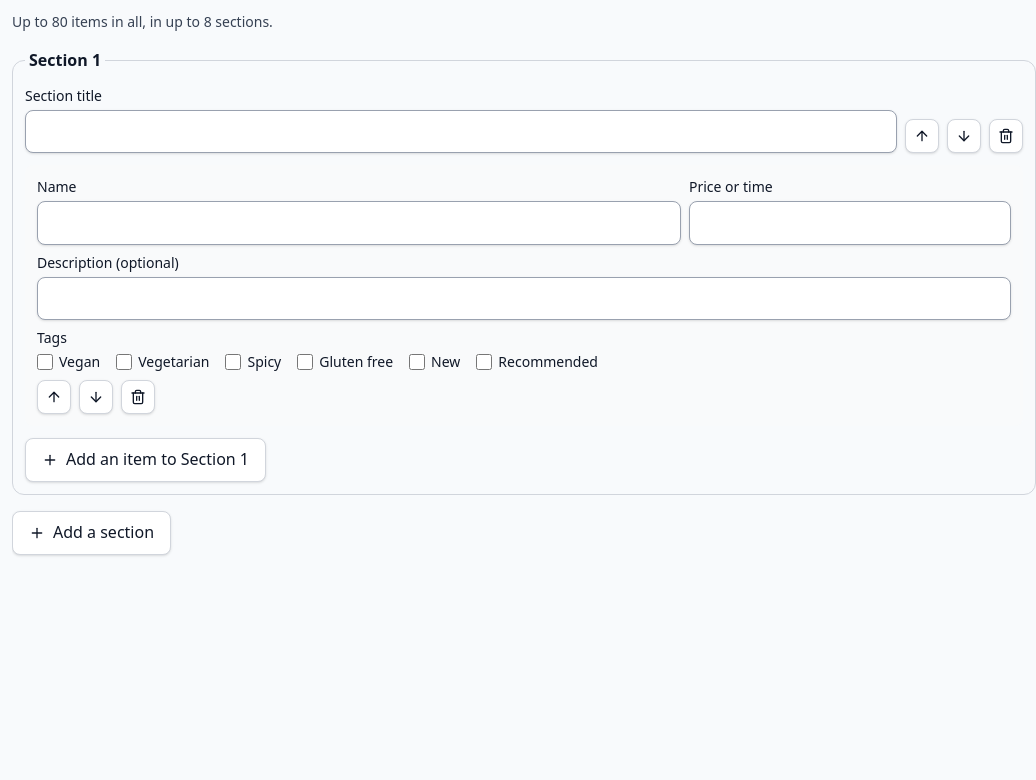
Test: menu editor › allows at most four tags per item
Click the checkbox labelled "Vegan" at (45, 362), box x1=37 y1=354 x2=53 y2=370
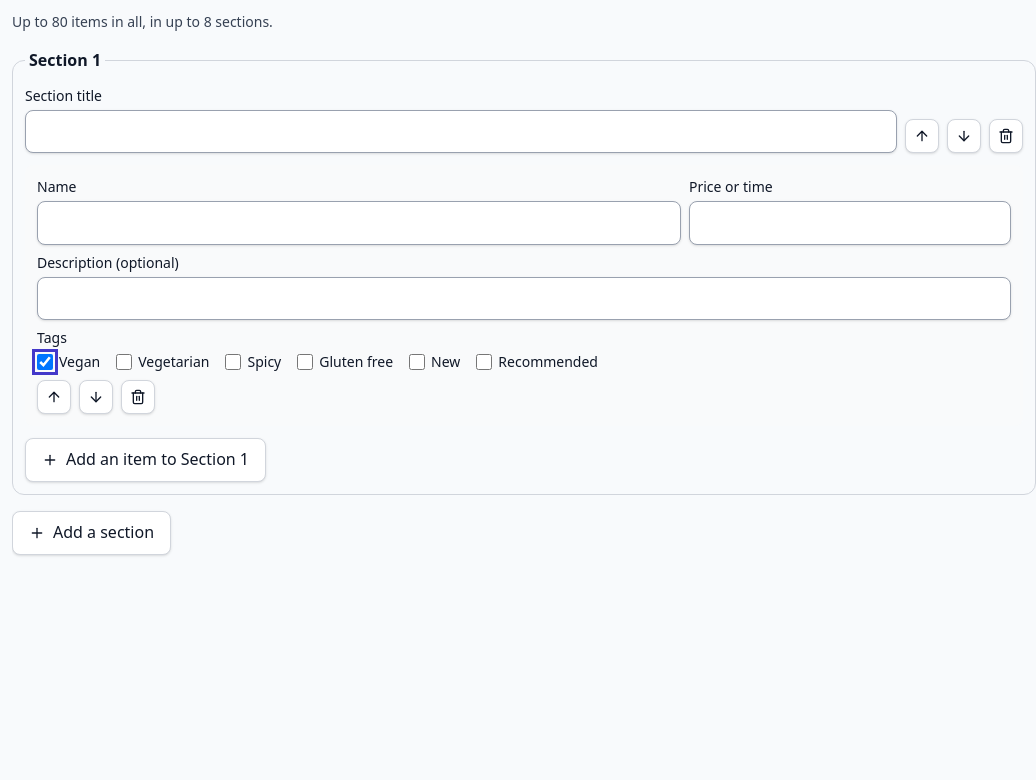
Click the checkbox labelled "Spicy" at (234, 362), box x1=226 y1=354 x2=242 y2=370
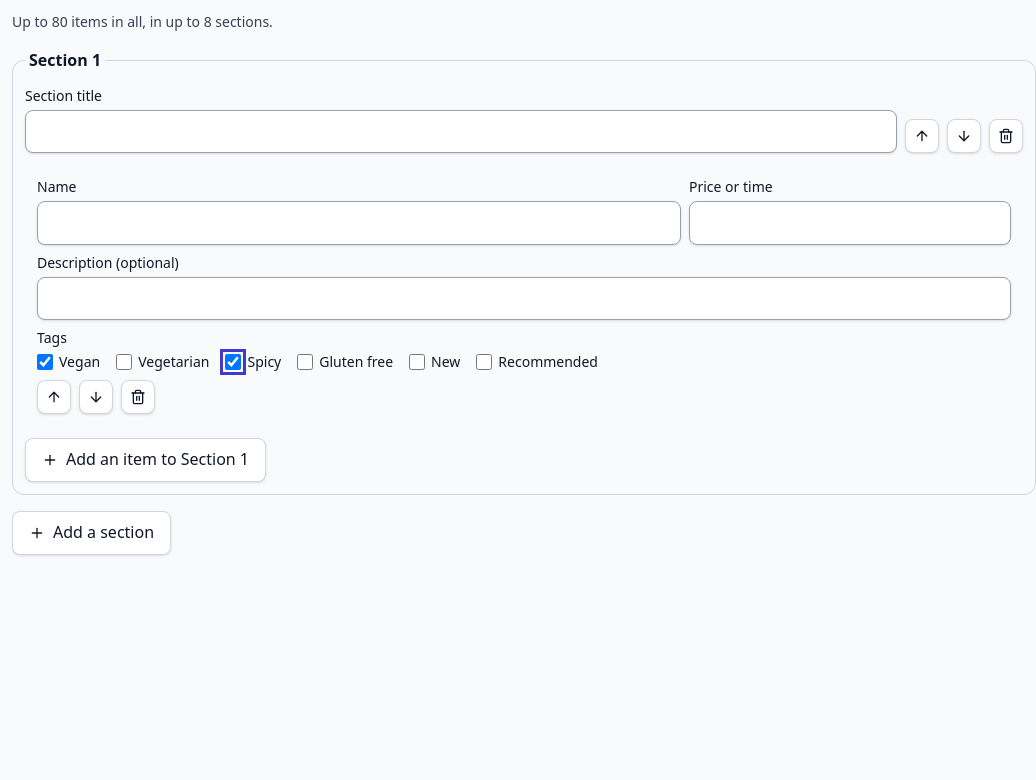
Click the checkbox labelled "New" at (417, 362), box x1=409 y1=354 x2=425 y2=370
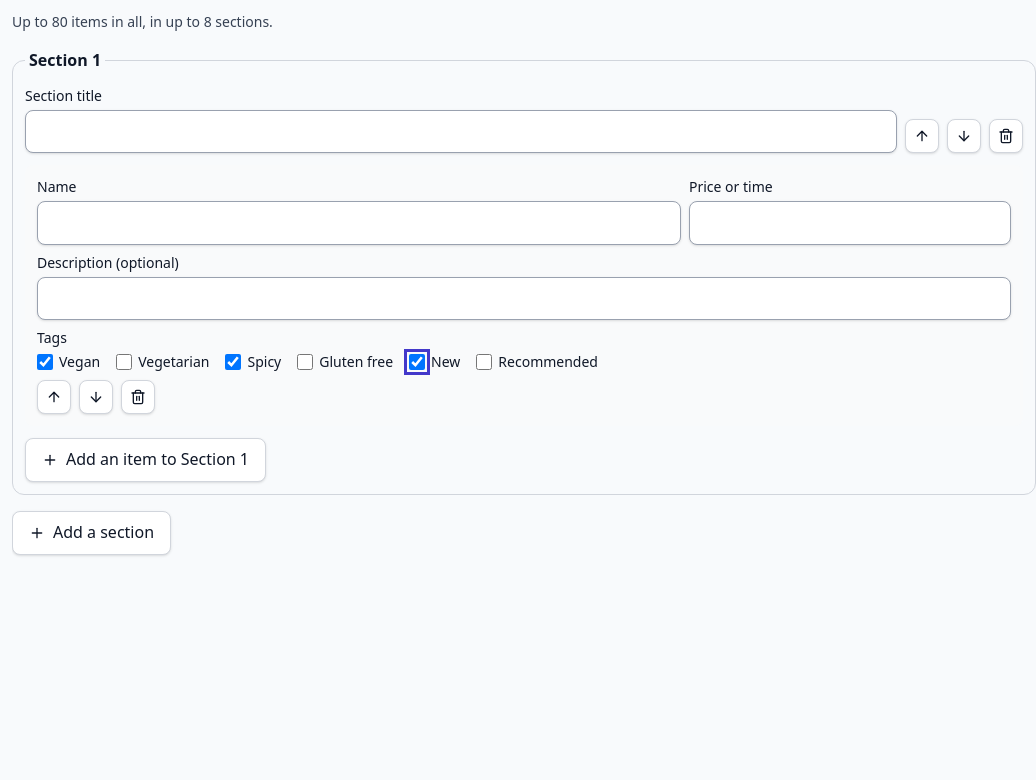
Click the checkbox labelled "Recommended" at (484, 362), box x1=476 y1=354 x2=492 y2=370
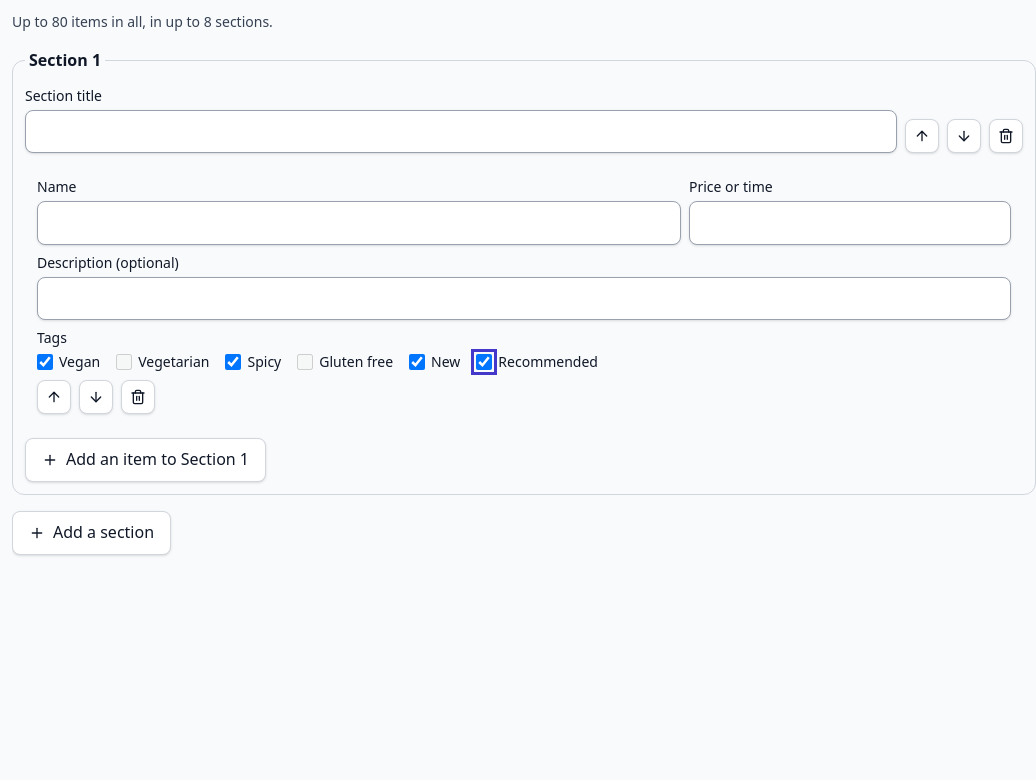
Check: the checkbox labelled "Gluten free" is disabled, box x1=297 y1=354 x2=313 y2=370
